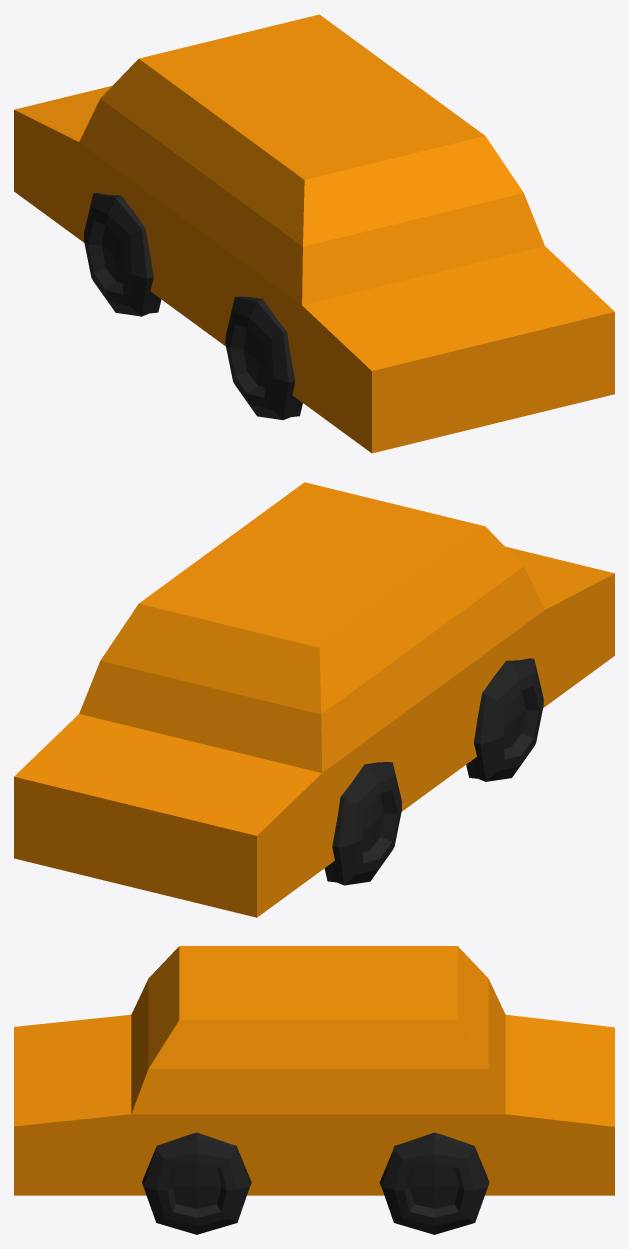
The model's file is car_k.obj.
The picture shows the model from 3 angles, top to bottom: view 1: azimuth 30°, elevation 25°; view 2: azimuth 150°, elevation 25°; view 3: azimuth 270°, elevation 25°; orthographic projection. The views are drawn at different scales.
Parts seen in each view (by area): view 1: Cube.003, Cube.001; view 2: Cube.003, Cube.001; view 3: Cube.003, Cube.001.
Boxes of the visible parts, bbox=[...] form: Cube.003: bbox=[14, 14, 614, 453]; Cube.001: bbox=[84, 193, 302, 419]; Cube.003: bbox=[14, 482, 614, 917]; Cube.001: bbox=[324, 658, 543, 885]; Cube.003: bbox=[14, 946, 614, 1195]; Cube.001: bbox=[142, 1132, 489, 1234].
Size of the model in its own units: 3.78 by 3.06 by 8.37.
